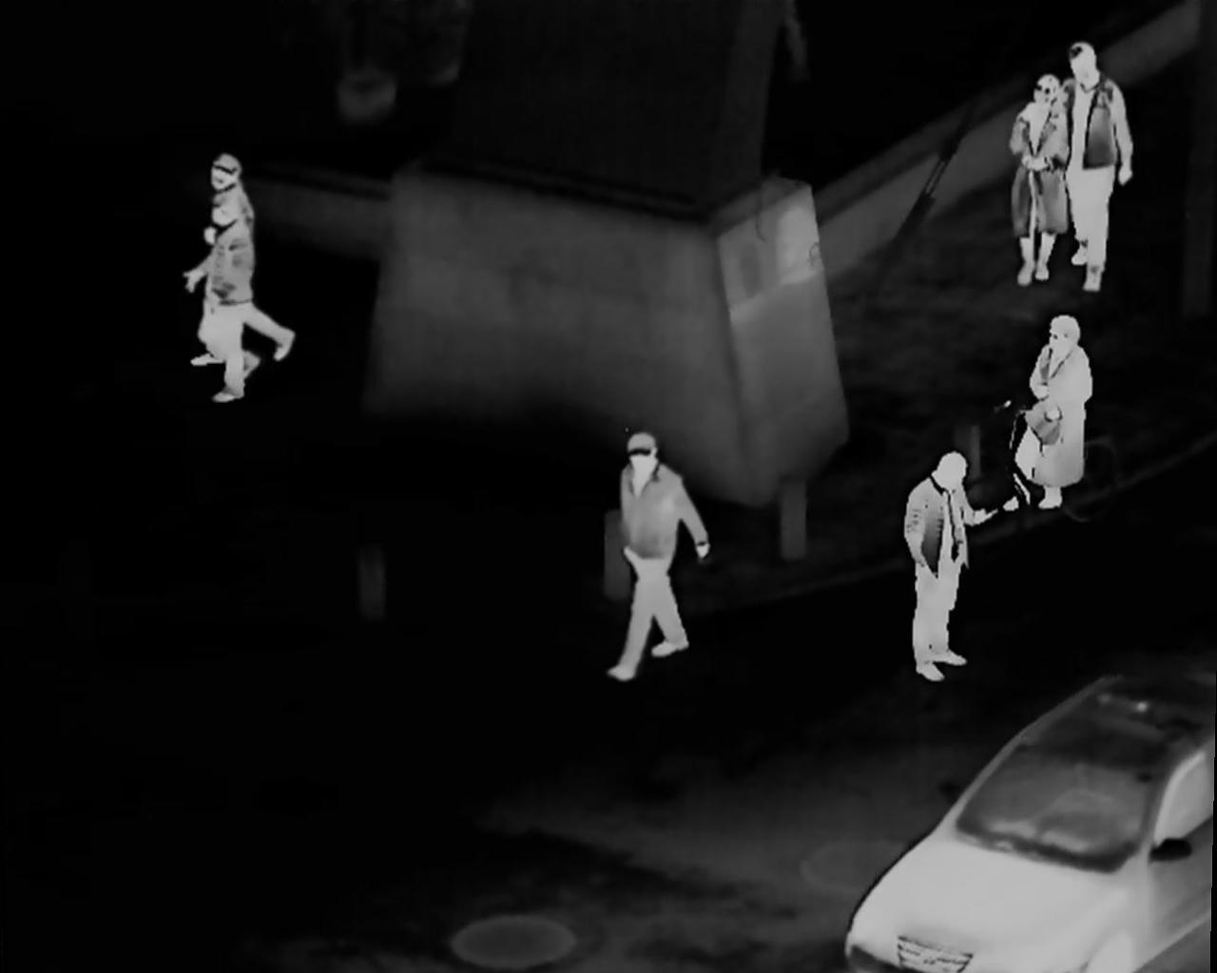person: (592, 437, 707, 678), (883, 447, 986, 682), (191, 161, 303, 355), (169, 205, 267, 402), (997, 313, 1093, 506), (1009, 71, 1083, 286), (1050, 37, 1110, 281)
